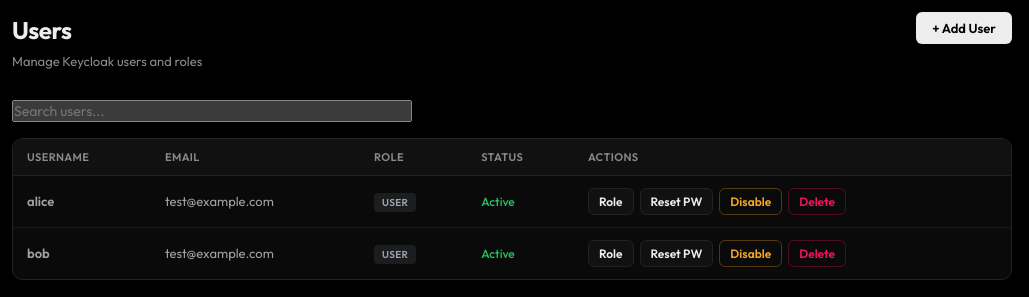
Scenario: Users page flows › shows pending feedback only on the active toggle row
The image size is (1029, 297).
Expected: the text "alice" is shown, top-left (13, 176), bottom-right (151, 228)
What coordinates should you click on to do the following:
click the button with aria-label "Disable user alice"
I would click on:
 (751, 202)
Its box is top-left (719, 188), bottom-right (782, 215).
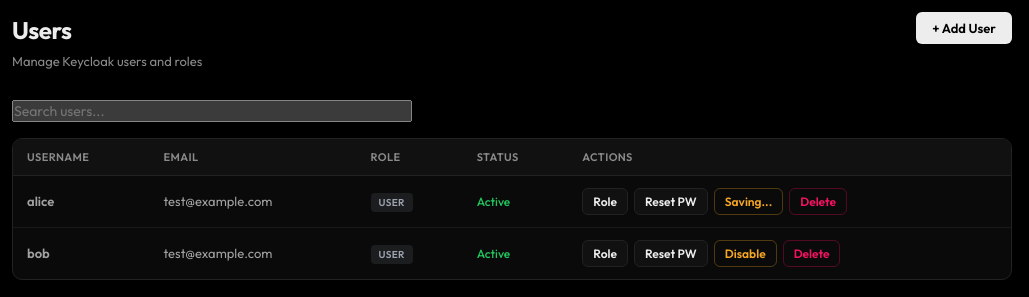
Expected: the button with aria-label "Disable user bob" reads "Disable", top-left (714, 240), bottom-right (777, 267)
Result: the button with aria-label "Disable user alice" reads "Saving..." at top-left (714, 188), bottom-right (783, 215)
